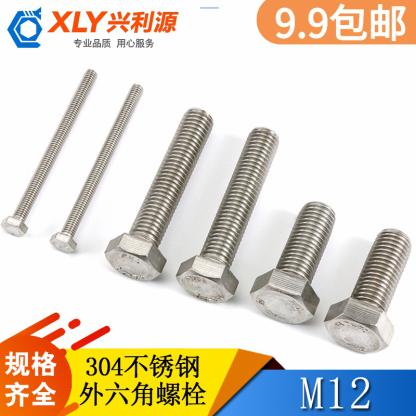FOD: (102, 106, 215, 287), (174, 123, 280, 305), (0, 65, 100, 240), (48, 81, 145, 256), (322, 228, 414, 356), (249, 200, 337, 328)
